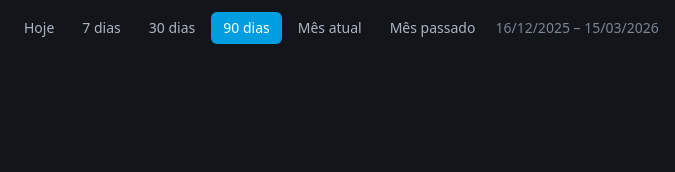
Test: PeriodPicker › shows the resolved range as text so it is never ambiguous
The image size is (675, 172).
Click the button "Mês passado" at (433, 28), box [378,12,488,44]
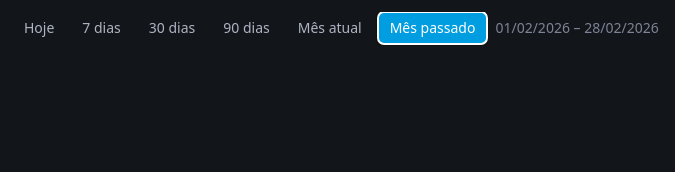
expect the text "01/02/2026 – 28/02/2026" is shown: met, box [495,18,659,38]
